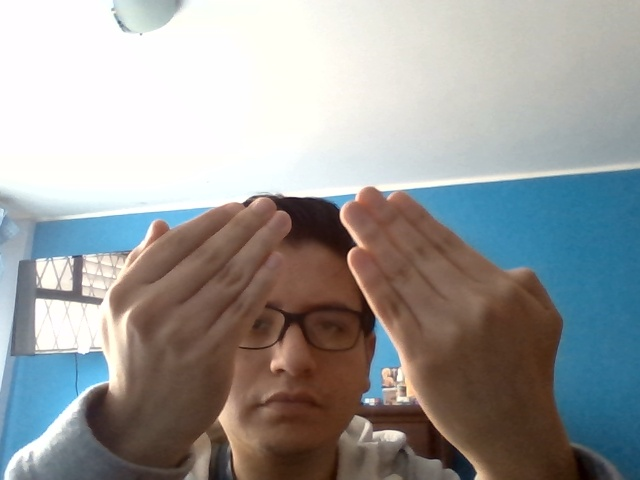gracias: (97, 188, 575, 456)
